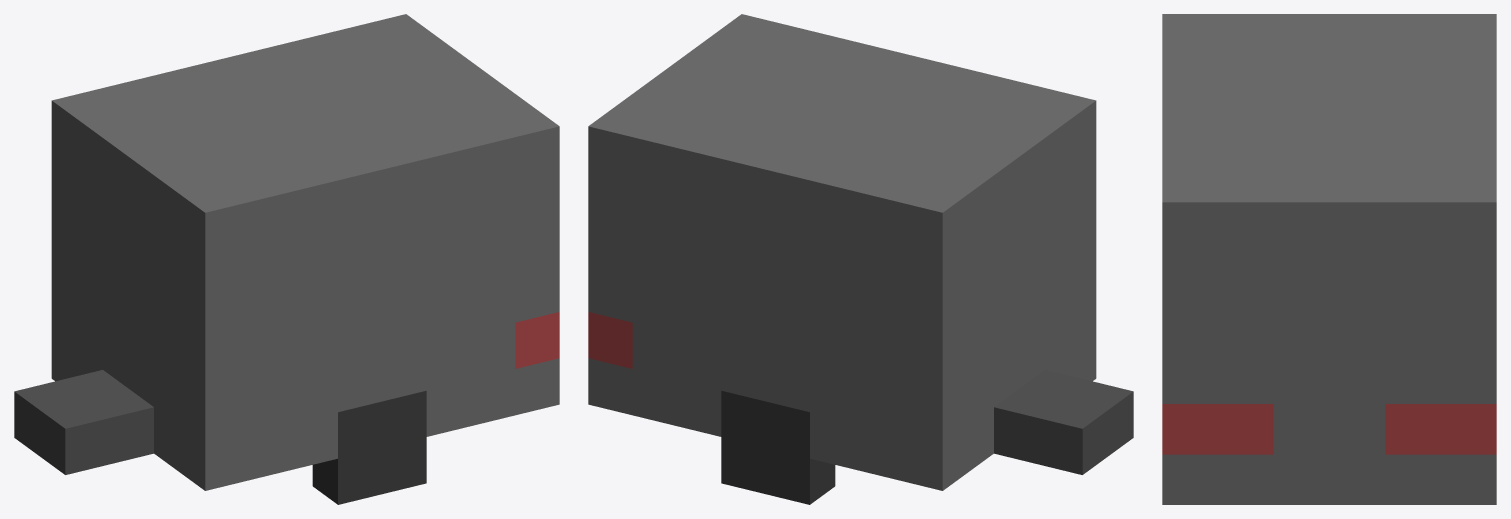
Rendered from car-trailer-v2-grey.gltf.
3 views of the same model, side by side, from view 1: azimuth 30°, elevation 25°; view 2: azimuth 150°, elevation 25°; view 3: azimuth 270°, elevation 25° (orthographic). The views are drawn at different scales.
Visible parts, largest first — view 1: model, wheels; view 2: model, wheels; view 3: model.
Boxes of the visible parts, x1,y1,x2,y2 form: model: (14, 14, 559, 490); wheels: (312, 390, 426, 504); model: (588, 14, 1133, 490); wheels: (721, 390, 835, 504); model: (1162, 14, 1496, 504).
Bounding box in the file's own units: 1 × 0.7 × 0.6.
Materials: 2 (2 with a texture image).
